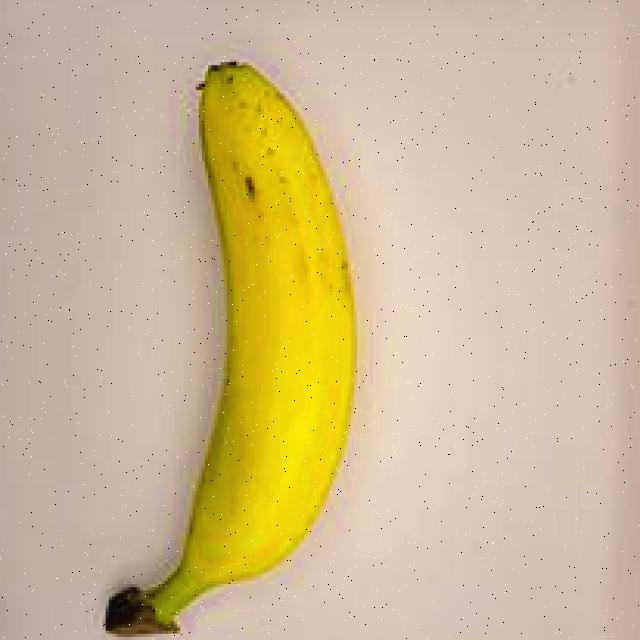Ripe: (75, 38, 382, 640)
